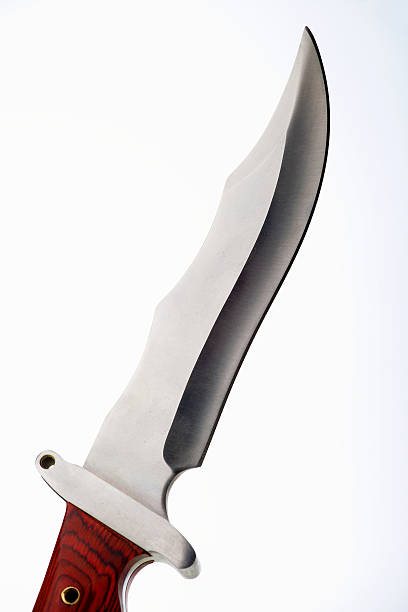knife: (29, 22, 332, 612)
